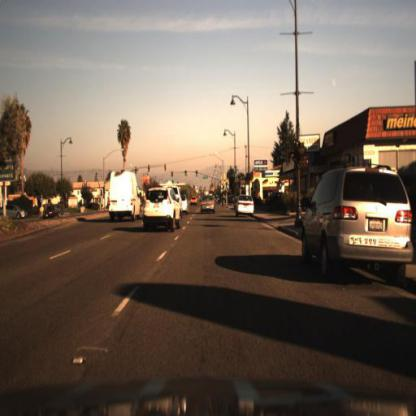biker: (220, 190, 229, 213)
car: (301, 162, 414, 279), (145, 186, 185, 235), (109, 171, 139, 223), (2, 204, 33, 227), (264, 190, 287, 217), (235, 194, 257, 218), (198, 193, 218, 214), (41, 204, 61, 224)
truck: (109, 174, 142, 230)
